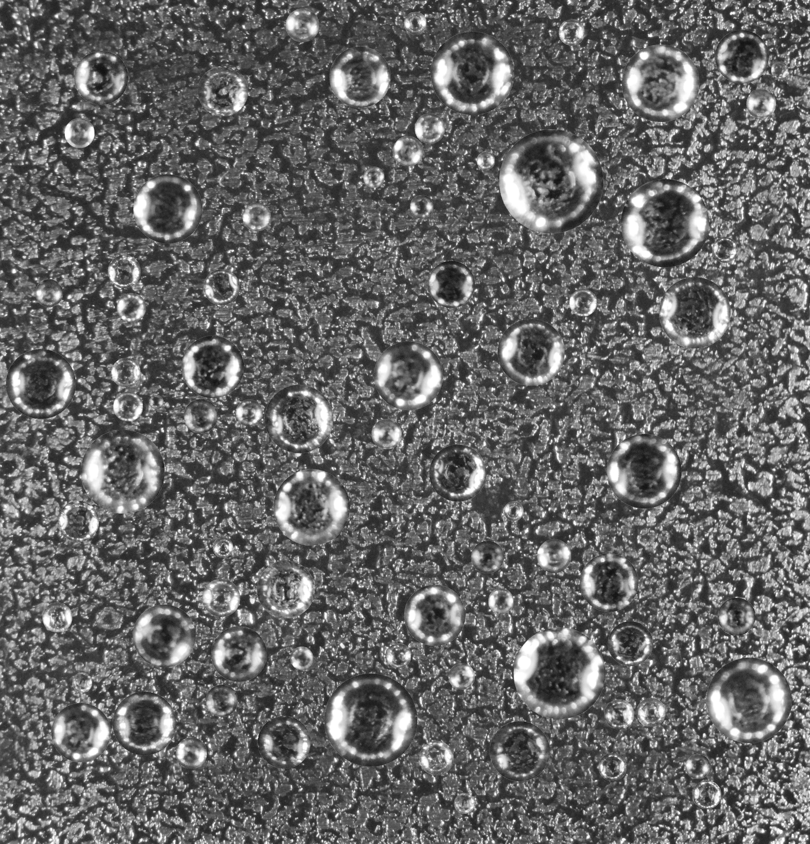Bubble: (499, 129, 603, 233), (324, 673, 417, 766), (513, 627, 605, 719), (621, 179, 709, 267), (706, 657, 791, 743), (80, 429, 164, 513), (430, 31, 514, 114), (622, 44, 699, 121), (273, 469, 349, 545), (607, 434, 681, 508), (659, 277, 730, 348), (5, 349, 75, 418), (133, 174, 202, 243), (264, 384, 333, 453), (374, 341, 442, 410), (497, 318, 564, 385), (112, 691, 176, 755), (132, 604, 195, 667), (181, 335, 243, 398), (329, 46, 390, 107), (404, 584, 465, 645), (489, 721, 549, 781), (51, 703, 110, 762), (580, 553, 638, 611), (257, 560, 314, 618), (429, 444, 486, 501), (211, 626, 266, 681), (74, 50, 128, 104), (715, 29, 768, 83), (257, 716, 310, 768), (197, 66, 247, 116), (427, 260, 474, 307), (608, 621, 652, 666), (57, 500, 98, 541), (717, 597, 755, 635), (202, 579, 240, 616), (203, 269, 239, 305), (537, 539, 571, 573), (183, 399, 217, 433), (419, 741, 453, 775), (285, 8, 319, 41), (107, 255, 140, 287), (471, 540, 503, 573), (205, 684, 237, 716), (175, 737, 206, 768), (414, 113, 444, 143), (42, 602, 72, 632), (393, 136, 423, 166), (371, 419, 401, 449), (604, 699, 634, 729), (746, 88, 776, 118), (64, 118, 94, 147), (113, 391, 142, 421), (692, 780, 721, 809), (636, 698, 665, 727), (111, 358, 140, 387), (116, 293, 145, 322), (242, 202, 270, 231), (598, 753, 626, 781), (235, 399, 262, 426), (569, 289, 596, 316), (35, 279, 62, 306), (558, 19, 584, 45), (448, 663, 474, 689), (488, 588, 513, 613), (712, 237, 737, 262), (685, 754, 710, 779), (386, 643, 411, 668), (290, 646, 313, 669), (410, 195, 433, 218), (404, 11, 426, 34), (363, 166, 384, 187), (212, 537, 233, 557), (72, 672, 92, 692), (454, 793, 474, 813), (504, 501, 523, 520), (476, 151, 494, 169), (771, 61, 788, 78), (149, 395, 163, 409), (390, 515, 399, 523)
